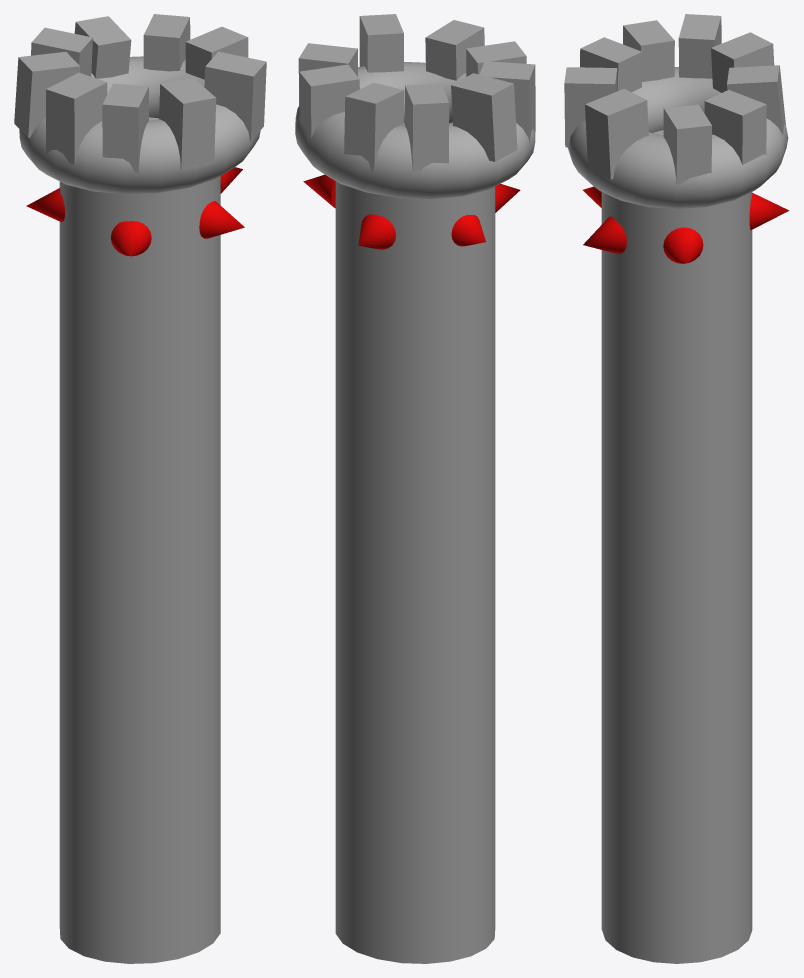
The model's file is CastlePillar.fbx.
3 views of the same model, side by side, from view 1: azimuth 30°, elevation 25°; view 2: azimuth 150°, elevation 25°; view 3: azimuth 270°, elevation 25° (orthographic).
Parts seen in each view (by area): view 1: MainPillar, CircleBase, polySurface13, polySurface5, polySurface11, polySurface14, polySurface12, polySurface1, polySurface3, polySurface2, polySurface4, polySurface7 (+2 smaller); view 2: MainPillar, CircleBase, polySurface12, polySurface3, polySurface4, polySurface1, polySurface11, polySurface13, polySurface5, polySurface2, polySurface14, polySurface10 (+2 smaller); view 3: MainPillar, CircleBase, polySurface11, polySurface1, polySurface2, polySurface12, polySurface13, polySurface5, polySurface3, polySurface4, polySurface14, polySurface9 (+2 smaller).
Boxes of the visible parts, x1,y1,x2,y2 form: MainPillar: (59, 117, 220, 963); CircleBase: (19, 56, 260, 194); polySurface13: (159, 78, 216, 169); polySurface5: (46, 72, 107, 164); polySurface11: (204, 51, 266, 141); polySurface14: (102, 83, 148, 173); polySurface12: (14, 51, 80, 137); polySurface1: (143, 14, 190, 71); polySurface3: (74, 16, 131, 78); polySurface2: (185, 26, 248, 79); polySurface4: (31, 27, 92, 76); polySurface7: (110, 221, 151, 256); MainPillar: (335, 123, 495, 963); CircleBase: (295, 62, 535, 199); polySurface12: (451, 73, 517, 161); polySurface3: (344, 83, 404, 171); polySurface4: (404, 83, 449, 171); polySurface1: (299, 64, 359, 136); polySurface11: (359, 14, 403, 72); polySurface13: (425, 20, 484, 80); polySurface5: (479, 61, 535, 143); polySurface2: (298, 43, 357, 105); polySurface14: (466, 41, 526, 76); polySurface10: (358, 214, 395, 249); MainPillar: (601, 130, 752, 963); CircleBase: (567, 67, 788, 209); polySurface11: (585, 88, 648, 179); polySurface1: (704, 90, 766, 164); polySurface2: (663, 104, 711, 193); polySurface12: (678, 14, 721, 78); polySurface13: (564, 67, 617, 147); polySurface5: (623, 20, 674, 81); polySurface3: (727, 65, 785, 134); polySurface4: (711, 32, 774, 92); polySurface14: (580, 37, 642, 92); polySurface9: (663, 227, 703, 263).
Size of the model in its own units: 12.21 by 47.45 by 11.18.
